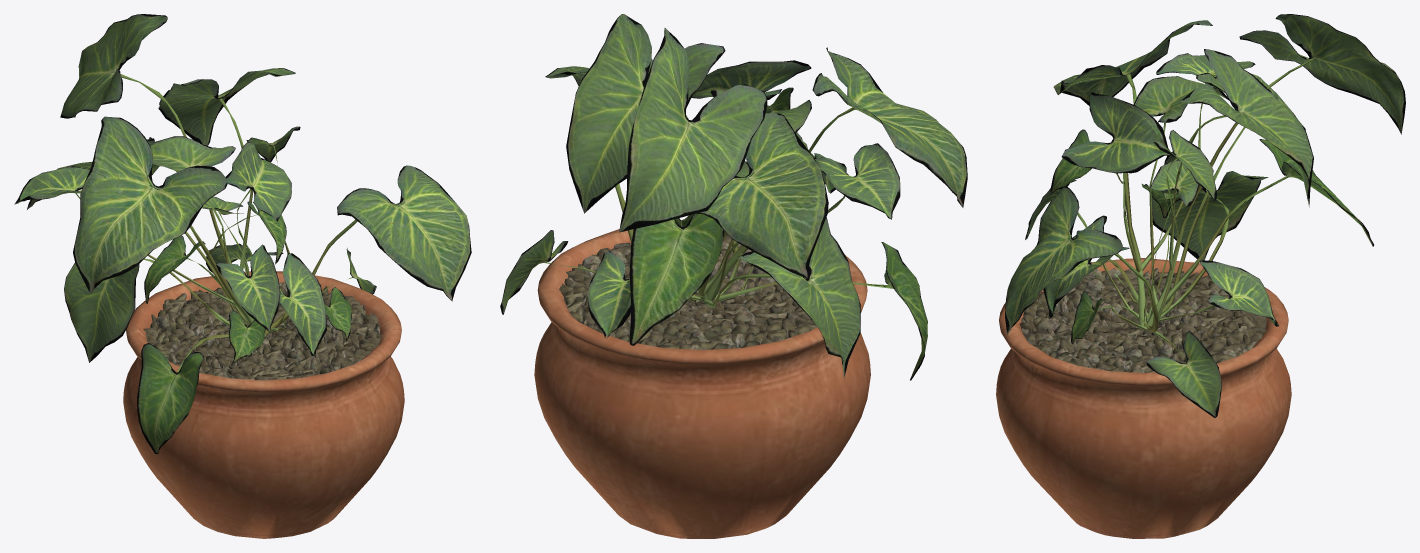
Rendered from plant-potted-02.cdda23c5.glb.
The picture shows the model from 3 angles, left to right: view 1: azimuth 30°, elevation 25°; view 2: azimuth 150°, elevation 25°; view 3: azimuth 270°, elevation 25°; orthographic projection. The views are drawn at different scales.
Parts seen in each view (by area): view 1: model; view 2: model; view 3: model.
Part boxes in pixels (x1,y1,x2,y2): model: [14, 14, 471, 538]; model: [500, 14, 967, 538]; model: [996, 14, 1405, 538].
Size of the model in its own units: 0.7012 by 0.8412 by 0.6574.
2 materials, 2 textured.
